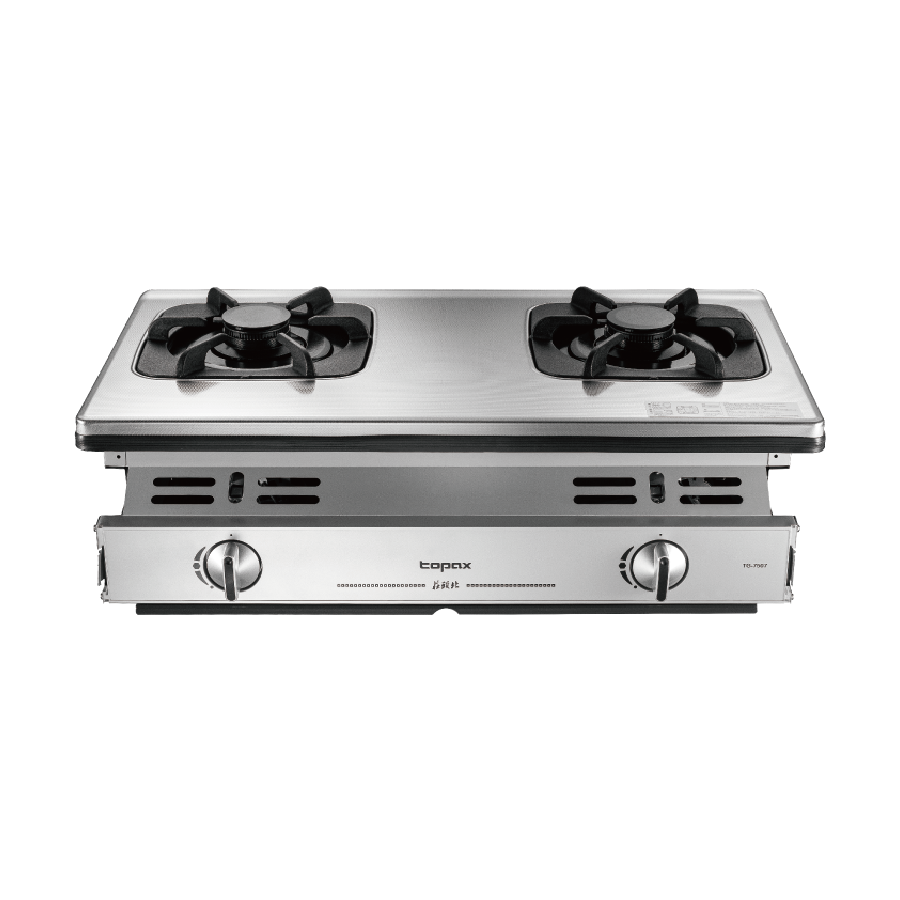gasoven: (66, 278, 831, 628)
